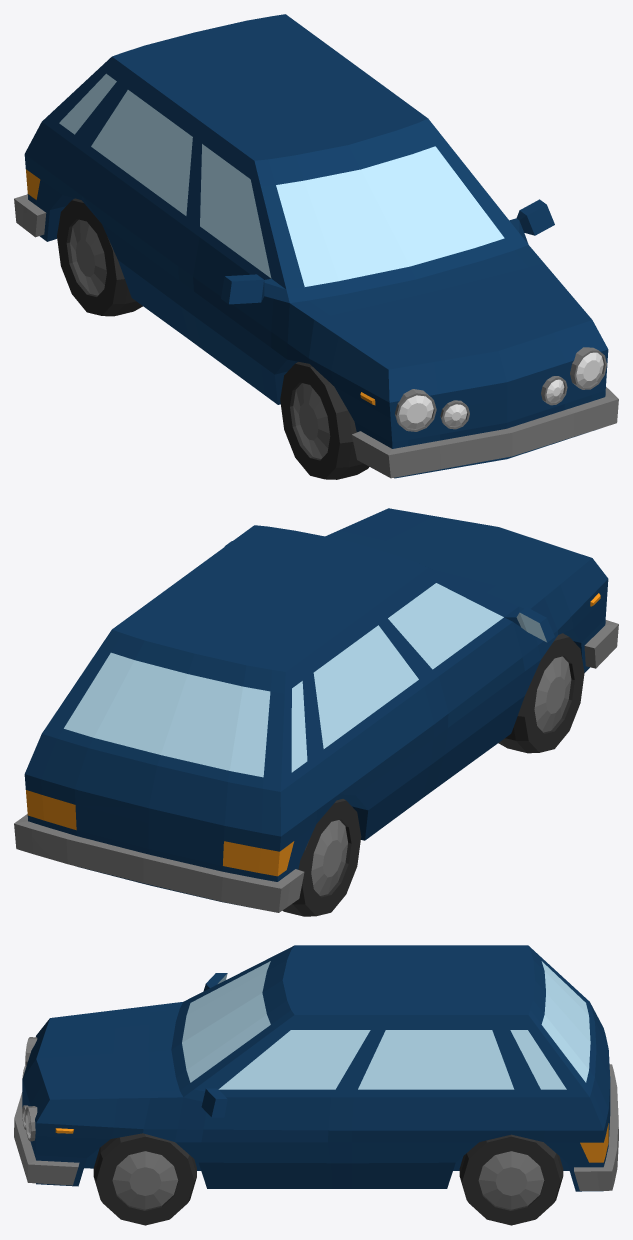
Rendered from car_blue.glb.
3 renders of one model, top to bottom at view 1: azimuth 30°, elevation 25°; view 2: azimuth 150°, elevation 25°; view 3: azimuth 270°, elevation 25°, orthographic. The views are drawn at different scales.
Parts seen in each view (by area): view 1: 1377 Car; view 2: 1377 Car; view 3: 1377 Car.
Boxes of the visible parts, x1,y1,x2,y2 form: 1377 Car: (14,14,618,479); 1377 Car: (14,508,618,916); 1377 Car: (14,945,618,1225).
Bounding box in the file's own units: 45.5 × 32.33 × 89.11.
1 material, 1 textured.
